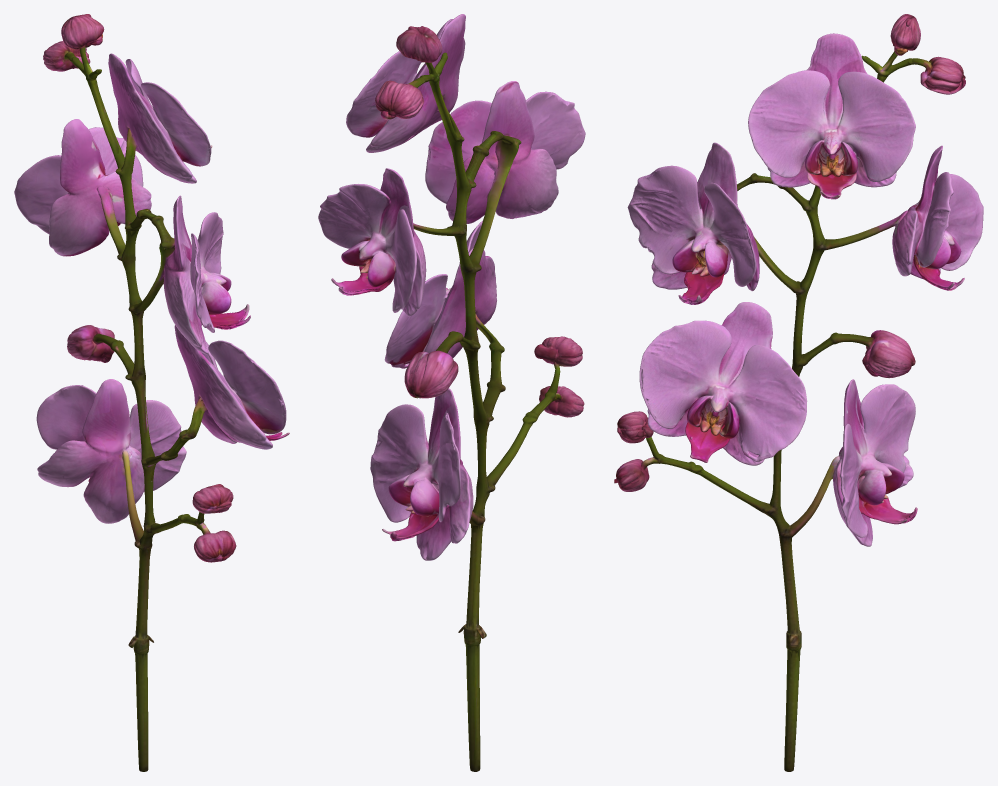
The model's file is Orchid 2.glb.
The picture shows the model from 3 angles, left to right: view 1: azimuth 30°, elevation 25°; view 2: azimuth 150°, elevation 25°; view 3: azimuth 270°, elevation 25°; orthographic projection. The views are drawn at different scales.
Visible parts, largest first — view 1: tripo_node_5a4e51f5-08ff-438a-a009-c3f01b23706b; view 2: tripo_node_5a4e51f5-08ff-438a-a009-c3f01b23706b; view 3: tripo_node_5a4e51f5-08ff-438a-a009-c3f01b23706b.
Boxes of the visible parts, bbox=[...] form: tripo_node_5a4e51f5-08ff-438a-a009-c3f01b23706b: bbox=[14, 14, 289, 771]; tripo_node_5a4e51f5-08ff-438a-a009-c3f01b23706b: bbox=[318, 14, 585, 771]; tripo_node_5a4e51f5-08ff-438a-a009-c3f01b23706b: bbox=[614, 14, 983, 771].
Size of the model in its own units: 0.2145 by 0.9818 by 0.4385.
1 material, 1 textured.
